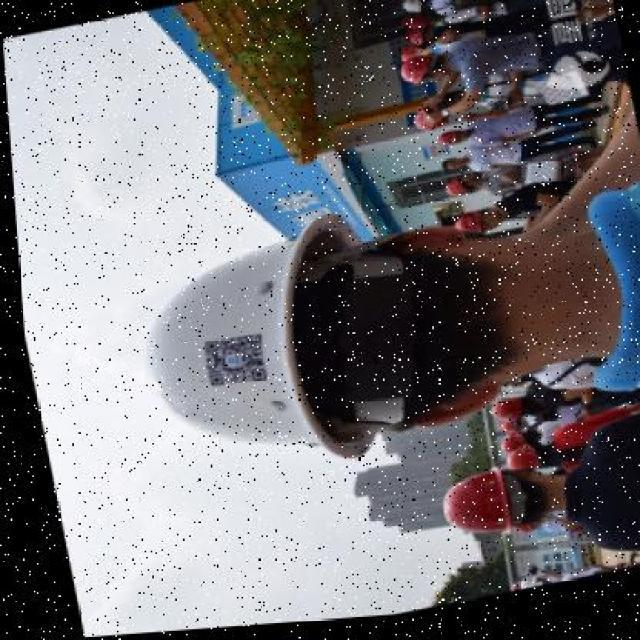helmet: (102, 206, 391, 510), (411, 465, 527, 561), (386, 49, 442, 99), (436, 179, 473, 209), (395, 0, 432, 25)
vest: (445, 28, 551, 91)
